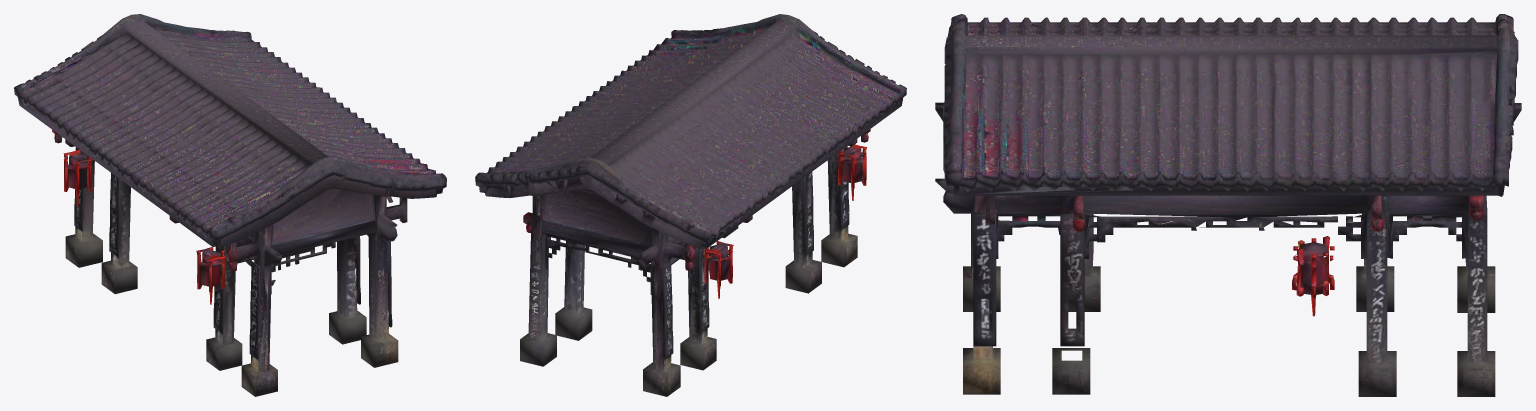
The model's file is wuhouci.glb.
3 renders of one model, left to right at view 1: azimuth 30°, elevation 25°; view 2: azimuth 150°, elevation 25°; view 3: azimuth 270°, elevation 25°, orthographic. The views are drawn at different scales.
Parts seen in each view (by area): view 1: geometry_0; view 2: geometry_0; view 3: geometry_0.
Part boxes in pixels (<box>): geometry_0: <box>14,14,446,396</box>; geometry_0: <box>475,14,906,396</box>; geometry_0: <box>935,14,1521,396</box>.
Size of the model in its own units: 0.6387 by 0.5879 by 0.998.
1 material, 1 textured.
